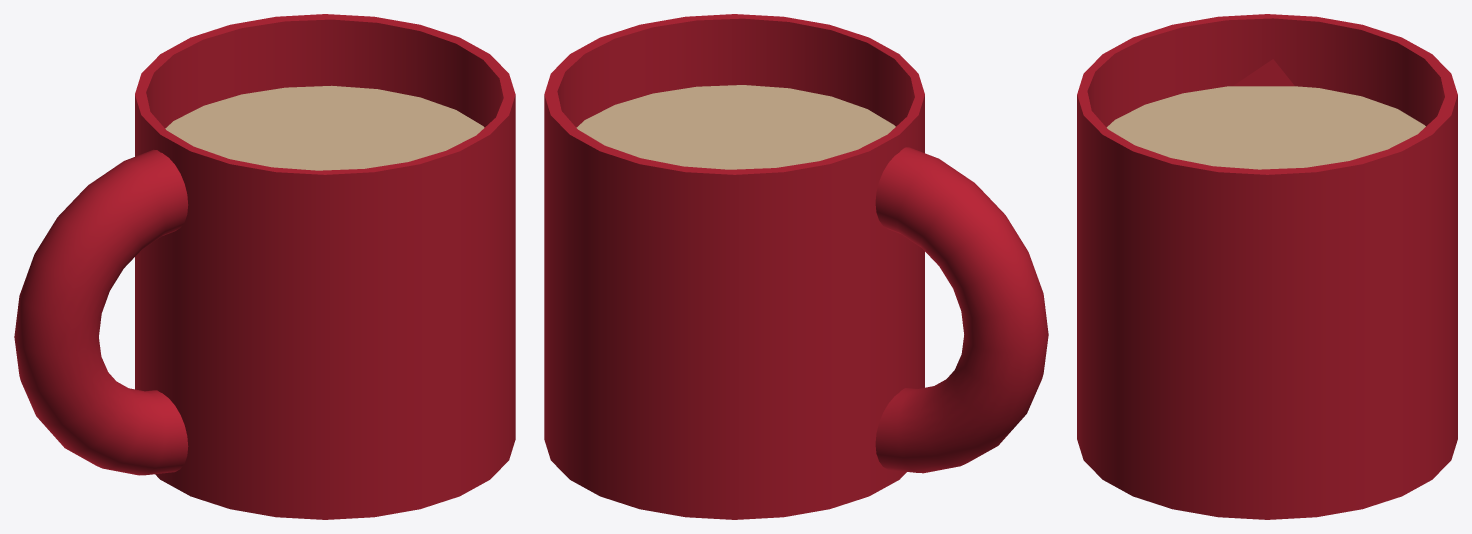
File: teacup.dae
3 views of the same model, side by side, from view 1: azimuth 30°, elevation 25°; view 2: azimuth 150°, elevation 25°; view 3: azimuth 270°, elevation 25° (orthographic).
Parts seen in each view (by area): view 1: group_0 (×3), group_1; view 2: group_0 (×3), group_1; view 3: group_0 (×3), group_1.
Boxes of the visible parts, x1,y1,x2,y2 form: group_0 (×3): (135,14,515,519); group_1: (14,149,188,475); group_0 (×3): (544,14,924,519); group_1: (875,147,1048,473); group_0 (×3): (1077,14,1457,519); group_1: (1233,59,1294,86).
Size of the model in its own units: 5.63 by 3.94 by 3.94.
